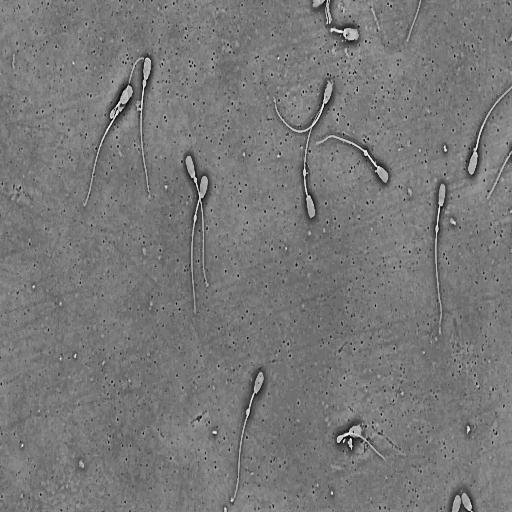dirt-particles: (246, 408, 249, 416)
distal-droplet: (193, 213, 197, 221), (435, 225, 439, 232), (364, 150, 368, 156), (303, 169, 306, 176)
folded-tail: (110, 57, 144, 119), (349, 433, 385, 459), (111, 106, 117, 117), (337, 435, 344, 443), (344, 434, 349, 437)
loose-head: (328, 24, 362, 44), (459, 490, 474, 512)
loose-tail: (483, 147, 512, 205), (404, 0, 424, 47)
normal: (83, 87, 129, 208), (466, 83, 512, 180), (232, 371, 264, 501), (314, 133, 391, 187), (273, 76, 335, 136), (184, 153, 210, 290), (189, 173, 210, 318), (302, 96, 326, 221), (109, 55, 145, 120), (433, 179, 448, 332), (335, 421, 388, 463), (139, 53, 153, 200)
proximal-droplet: (142, 79, 146, 87), (193, 176, 197, 183), (116, 109, 119, 116)
